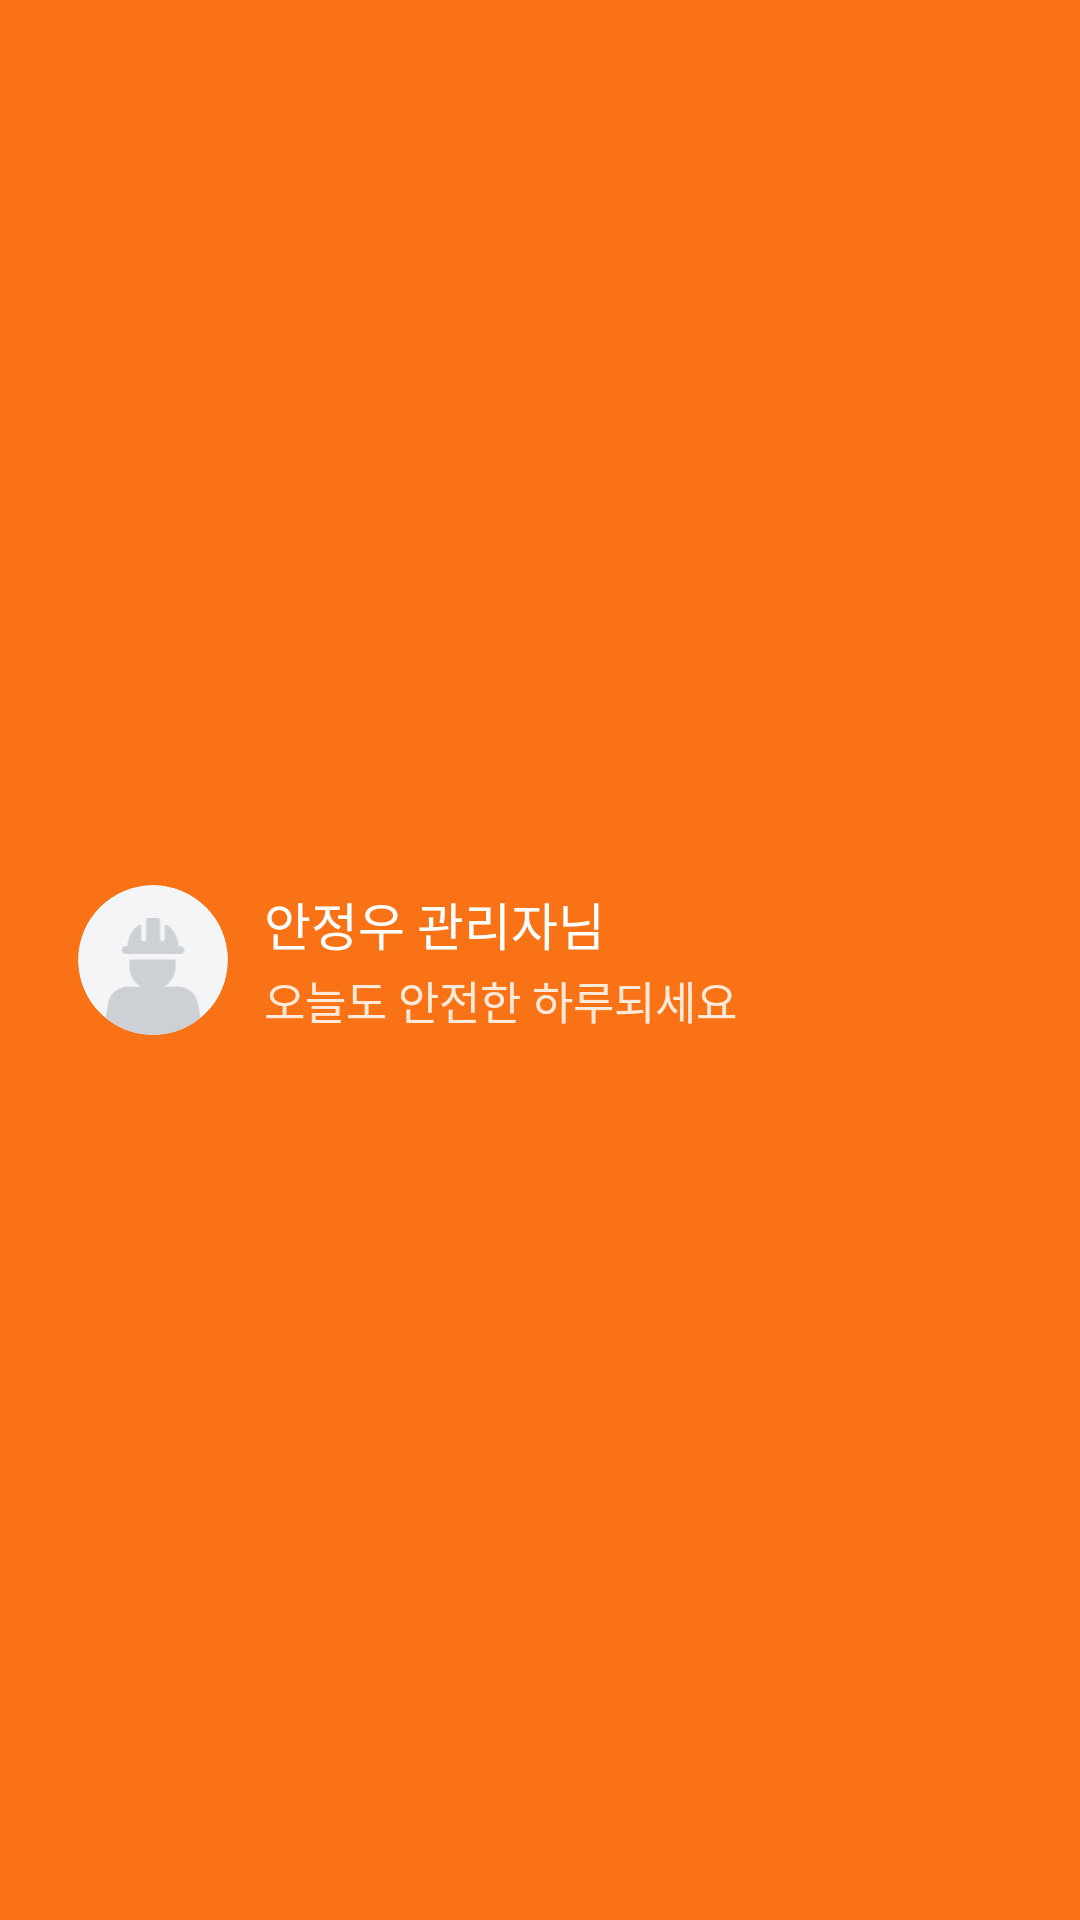

Named icons in this screenshot (1080×1920) and their bounding boxes, region(x1, y1, x2, y2):
profile: region(78, 885, 228, 1035)
